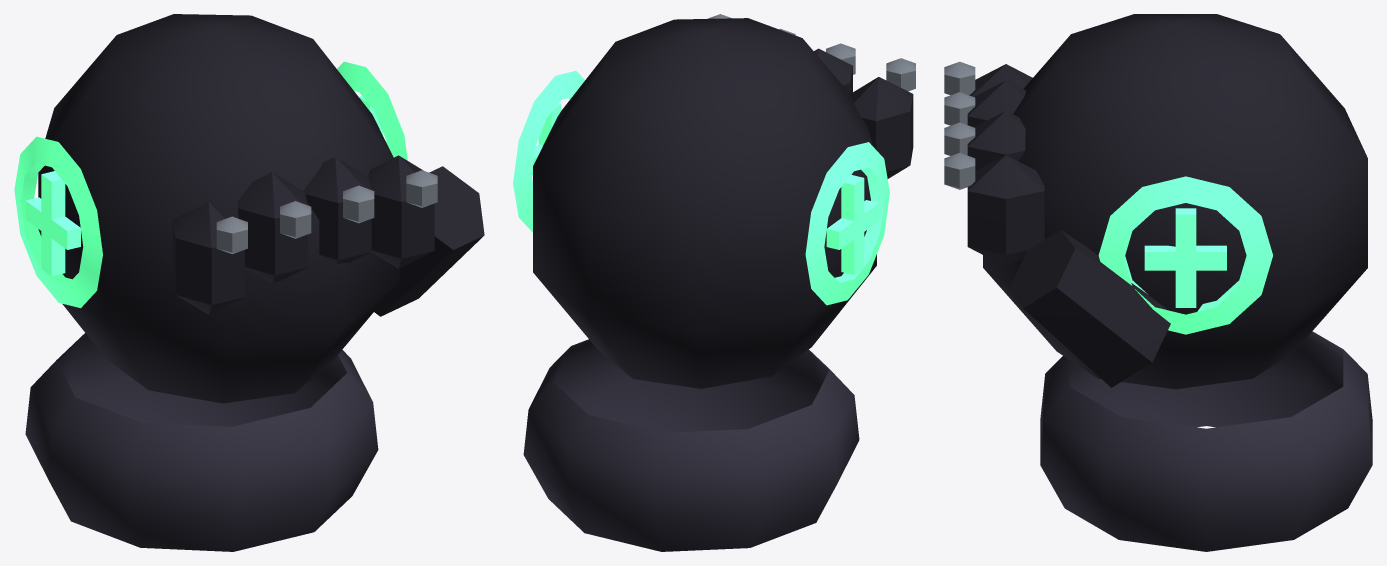
File: seal-gloves-2.glb
3 views of the same model, side by side, from view 1: azimuth 30°, elevation 25°; view 2: azimuth 150°, elevation 25°; view 3: azimuth 270°, elevation 25° (orthographic). The views are drawn at different scales.
Visible parts, largest first — view 1: seal-gloves-2; view 2: seal-gloves-2; view 3: seal-gloves-2.
Part boxes in pixels (box(x1,y1,x2,y2)): seal-gloves-2: box(14, 14, 484, 551); seal-gloves-2: box(513, 14, 915, 551); seal-gloves-2: box(944, 14, 1372, 551).
Bounding box in the file's own units: 0.0812 × 0.1 × 0.0833.
